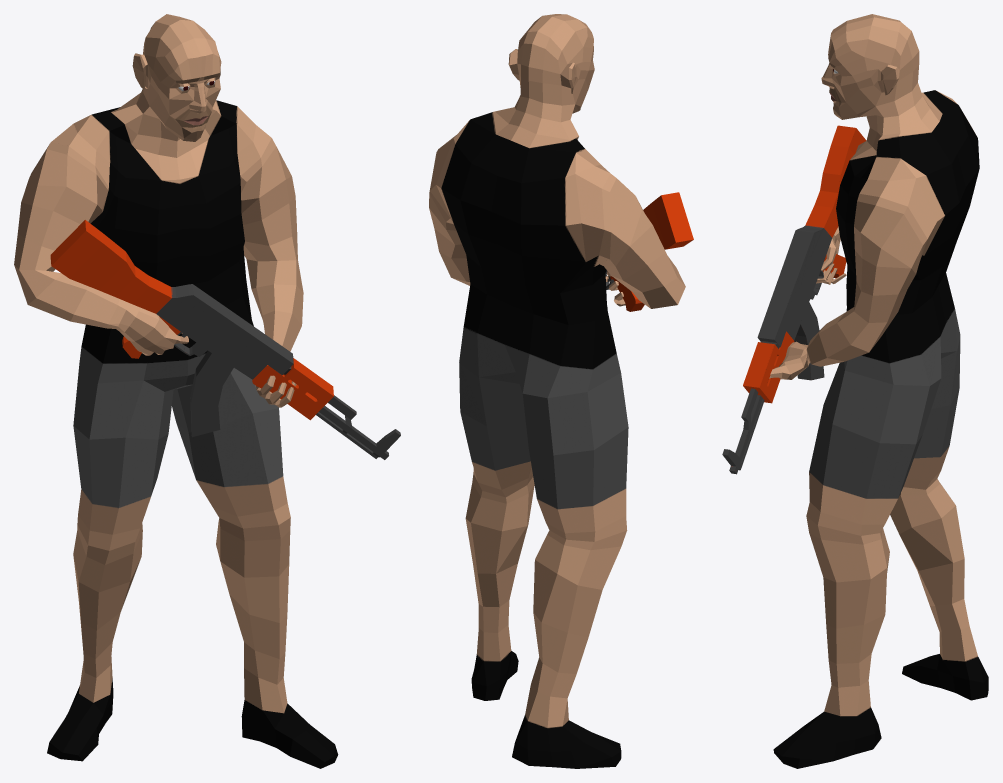
File: PlayerIdle(224).obj
The picture shows the model from 3 angles, left to right: view 1: azimuth 30°, elevation 25°; view 2: azimuth 150°, elevation 25°; view 3: azimuth 270°, elevation 25°; orthographic projection. The views are drawn at different scales.
Parts seen in each view (by area): view 1: Plane002, Object001; view 2: Plane002, Object001; view 3: Plane002, Object001.
Part boxes in pixels (x1,y1,x2,y2): Plane002: (14, 14, 338, 768); Object001: (50, 220, 400, 459); Plane002: (429, 14, 685, 768); Object001: (605, 192, 693, 311); Plane002: (769, 14, 988, 768); Object001: (722, 125, 866, 474).
Bounding box in the file's own units: 744 × 1803 × 624.
